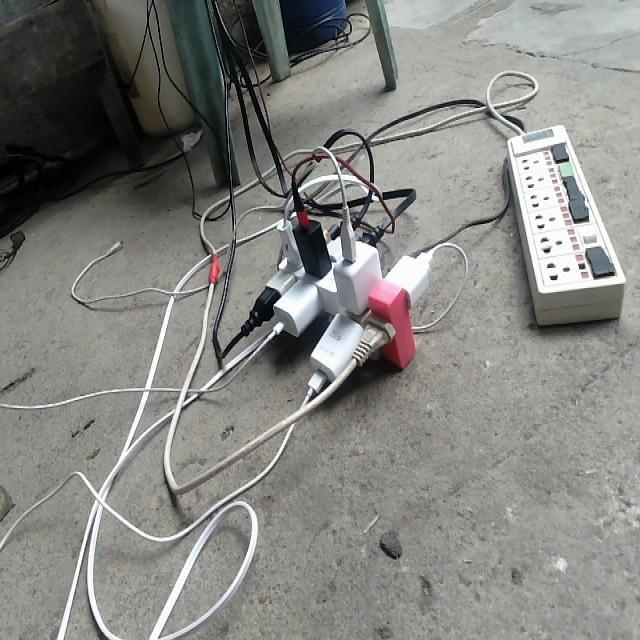-: (233, 141, 436, 403)
